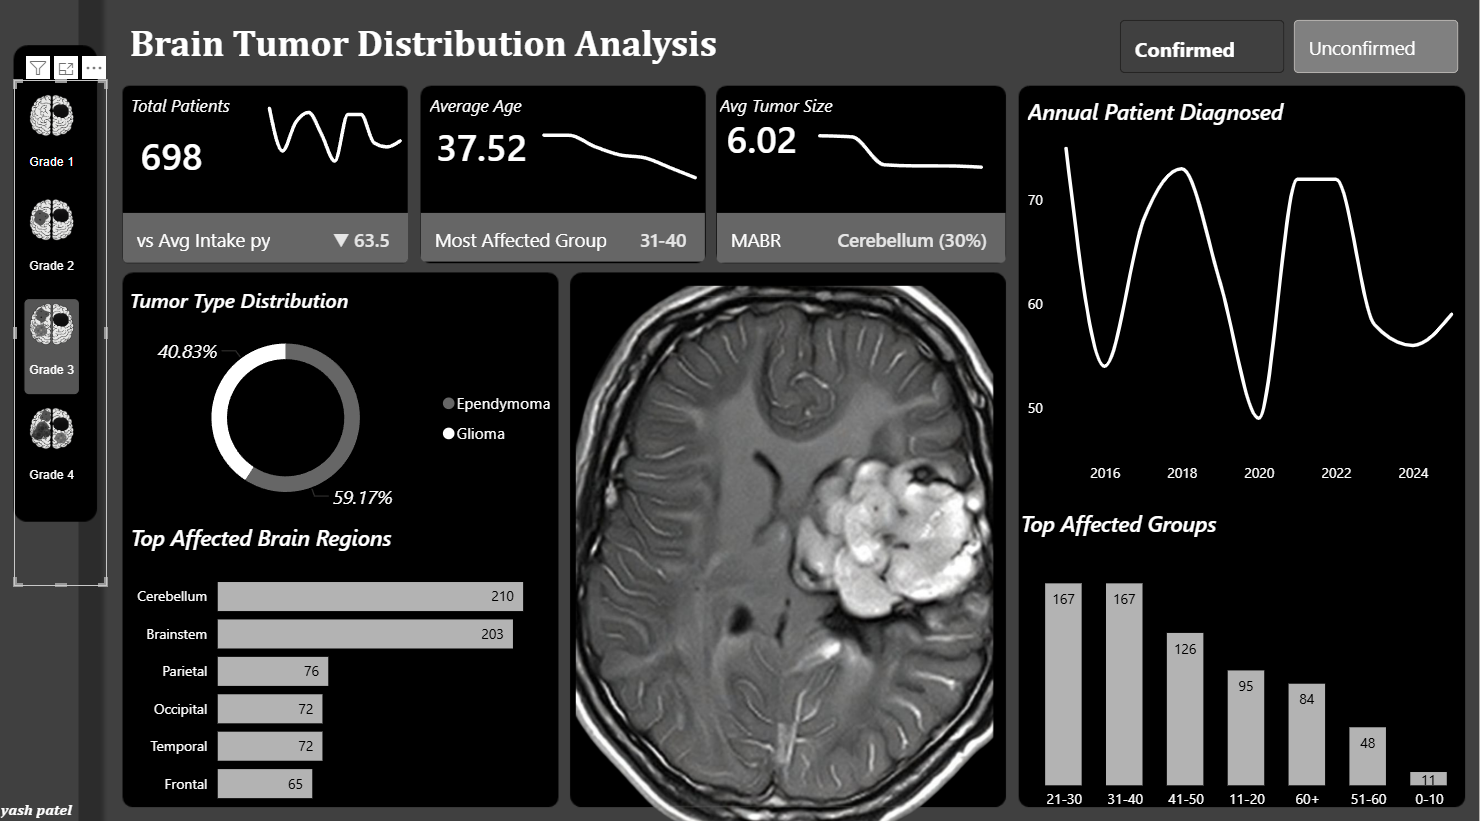

What the dashboard file says about the page in this screenshot:
{"tool":"powerbi","page":{"name":"Page 1","canvas":[1280,720],"ordinal":0},"visuals":[{"type":"cardVisual","fields":{"Data":["Count(Brain Tumor Data.Patient ID)"]},"box":[96.7,90,186.7,96.7],"z":0},{"type":"lineChart","fields":{"Category":["Brain Tumor Data.Date of Diagnosis.Variation.Date Hierarchy.Year","Brain Tumor Data.Date of Diagnosis.Variation.Date Hierarchy.Quarter","Brain Tumor Data.Date of Diagnosis.Variation.Date Hierarchy.Month","Brain Tumor Data.Date of Diagnosis.Variation.Date Hierarchy.Day"],"Y":["CountNonNull(Brain Tumor Data.Patient ID)"]},"box":[221.4,77.1,142.9,90],"z":1000},{"type":"cardVisual","fields":{"Data":["CountNonNull(Brain Tumor Data.Patient ID)"]},"box":[86.2,109,294.3,148.1],"z":2000},{"type":"textbox","box":[112,82,127,33.5],"z":3000},{"type":"cardVisual","fields":{"Data":["Avg(Brain Tumor Data.Age)"]},"box":[351.7,81.7,186.7,96.7],"z":4000},{"type":"lineChart","fields":{"Y":["CountNonNull(Brain Tumor Data.Patient ID)"],"Category":["Brain Tumor Data.Age Group"]},"box":[460,101,158,67],"z":5000},{"type":"cardVisual","fields":{"Data":["CountNonNull(Brain Tumor Data.Patient ID)"]},"box":[343.3,108.6,293.3,147.6],"z":6000},{"type":"textbox","box":[370,81.7,127.5,34.2],"z":7000},{"type":"cardVisual","fields":{"Data":["Avg(Brain Tumor Data.Tumor Size (cm))"]},"box":[601.7,75,186.7,96.7],"z":8000},{"type":"lineChart","fields":{"Category":["Brain Tumor Data.Affected Brain Region"],"Y":["Sum(Brain Tumor Data.Tumor Size (cm))"]},"box":[695,101.7,171.7,66.7],"z":9000},{"type":"cardVisual","fields":{"Data":["CountNonNull(Brain Tumor Data.Patient ID)"]},"box":[598.5,108.5,297.7,148.5],"z":10000},{"type":"textbox","box":[620,81.7,126.7,33.3],"z":11000},{"type":"advancedSlicerVisual","fields":{"Values":["Brain Tumor Data.Histology Confirmation"]},"box":[965,18.3,303.3,56.7],"z":12000},{"type":"ChicletSlicer1448559807354","fields":{"Category":["Tumor Images.Column1"],"Image":["Tumor Images.Column3"]},"box":[16.7,75,80,436.7],"z":13000},{"type":"imageDB603108E3FF4EBFB8047F5653368E8C","fields":{"imageUrl":["Tumor Images.Column2"]},"box":[495.7,247.1,370,472.9],"z":14000},{"type":"donutChart","title":"Tumor Type Distribution","fields":{"Category":["Brain Tumor Data.Tumor Type"],"Y":["CountNonNull(Brain Tumor Data.Patient ID)"]},"box":[111.4,252.9,382.9,204.3],"z":15000},{"type":"barChart","title":"Top Affected Brain Regions","fields":{"Category":["Brain Tumor Data.Affected Brain Region"],"Y":["CountNonNull(Brain Tumor Data.Patient ID)"]},"box":[112,457,383,256],"z":16000},{"type":"lineChart","title":"Annual Patient Diagnosed","fields":{"Category":["Brain Tumor Data.Date of Diagnosis.Variation.Date Hierarchy.Year","Brain Tumor Data.Date of Diagnosis.Variation.Date Hierarchy.Quarter","Brain Tumor Data.Date of Diagnosis.Variation.Date Hierarchy.Month","Brain Tumor Data.Date of Diagnosis.Variation.Date Hierarchy.Day"],"Y":["CountNonNull(Brain Tumor Data.Patient ID)"]},"box":[885.7,90,388.6,342.9],"z":17000},{"type":"clusteredColumnChart","title":"Top Affected Groups","fields":{"Category":["Brain Tumor Data.Age Group"],"Y":["CountNonNull(Brain Tumor Data.Patient ID)"]},"box":[880,445,400,268.3],"z":18000},{"type":"textbox","box":[111.4,18.6,551.4,67.1],"z":19000},{"type":"textbox","box":[0,690,75.5,30],"z":20000}]}

Visuals, with their boxes on the page's 1280x720 design canvas (x1, y1, x2, y2). These are canvas units, not pixel positions in the 1484x821 screenshot, which may show the page scaled, cropped or inside an application window:
cardVisual - Count(Brain Tumor Data.Patient ID): <box>97,90,283,187</box>
lineChart - Brain Tumor Data.Date of Diagnosis.Variation.Date Hierarchy.Year x Brain Tumor Data.Date of Diagnosis.Variation.Date Hierarchy.Quarter: <box>221,77,364,167</box>
cardVisual - CountNonNull(Brain Tumor Data.Patient ID): <box>86,109,380,257</box>
textbox: <box>112,82,239,116</box>
cardVisual - Avg(Brain Tumor Data.Age): <box>352,82,538,178</box>
lineChart - CountNonNull(Brain Tumor Data.Patient ID) x Brain Tumor Data.Age Group: <box>460,101,618,168</box>
cardVisual - CountNonNull(Brain Tumor Data.Patient ID): <box>343,109,637,256</box>
textbox: <box>370,82,498,116</box>
cardVisual - Avg(Brain Tumor Data.Tumor Size (cm)): <box>602,75,788,172</box>
lineChart - Brain Tumor Data.Affected Brain Region x Sum(Brain Tumor Data.Tumor Size (cm)): <box>695,102,867,168</box>
cardVisual - CountNonNull(Brain Tumor Data.Patient ID): <box>598,108,896,257</box>
textbox: <box>620,82,747,115</box>
advancedSlicerVisual - Brain Tumor Data.Histology Confirmation: <box>965,18,1268,75</box>
ChicletSlicer1448559807354 - Tumor Images.Column1 x Tumor Images.Column3: <box>17,75,97,512</box>
imageDB603108E3FF4EBFB8047F5653368E8C - Tumor Images.Column2: <box>496,247,866,720</box>
"Tumor Type Distribution" donutChart: <box>111,253,494,457</box>
"Top Affected Brain Regions" barChart: <box>112,457,495,713</box>
"Annual Patient Diagnosed" lineChart: <box>886,90,1274,433</box>
"Top Affected Groups" clusteredColumnChart: <box>880,445,1280,713</box>
textbox: <box>111,19,663,86</box>
textbox: <box>0,690,76,720</box>
